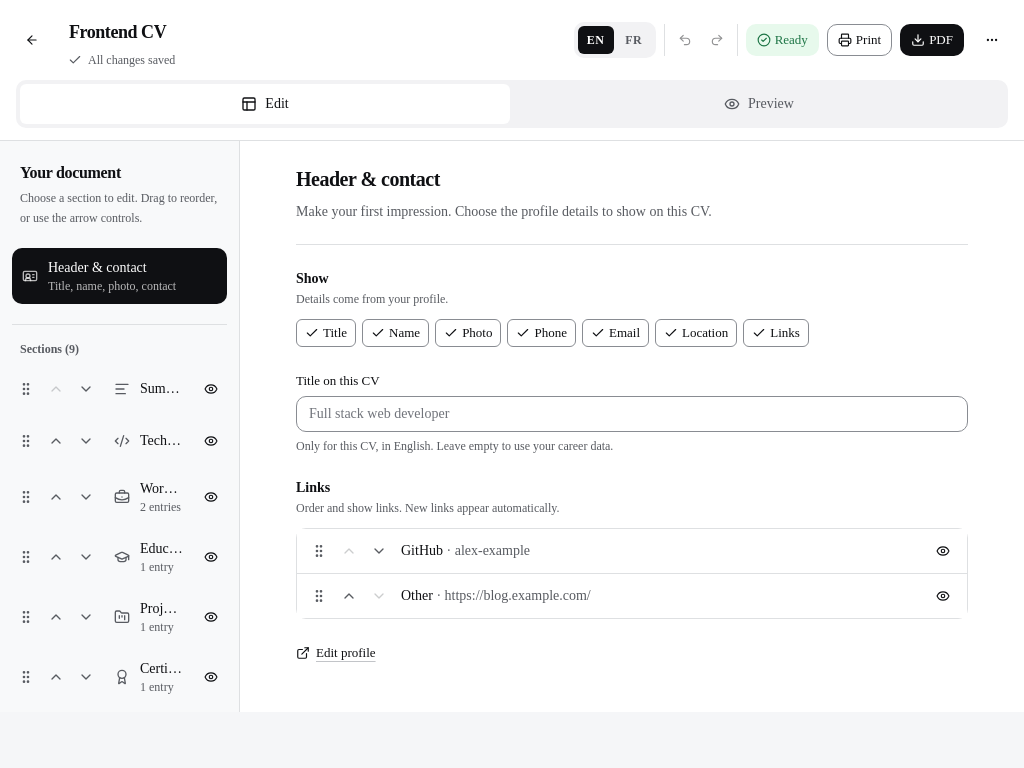
Test case: CV builder › autosaves a rename with the revision it started from
Replace the text in the field named "CV name" with "Backend CV" at (311, 32), box [60,12,562,52]
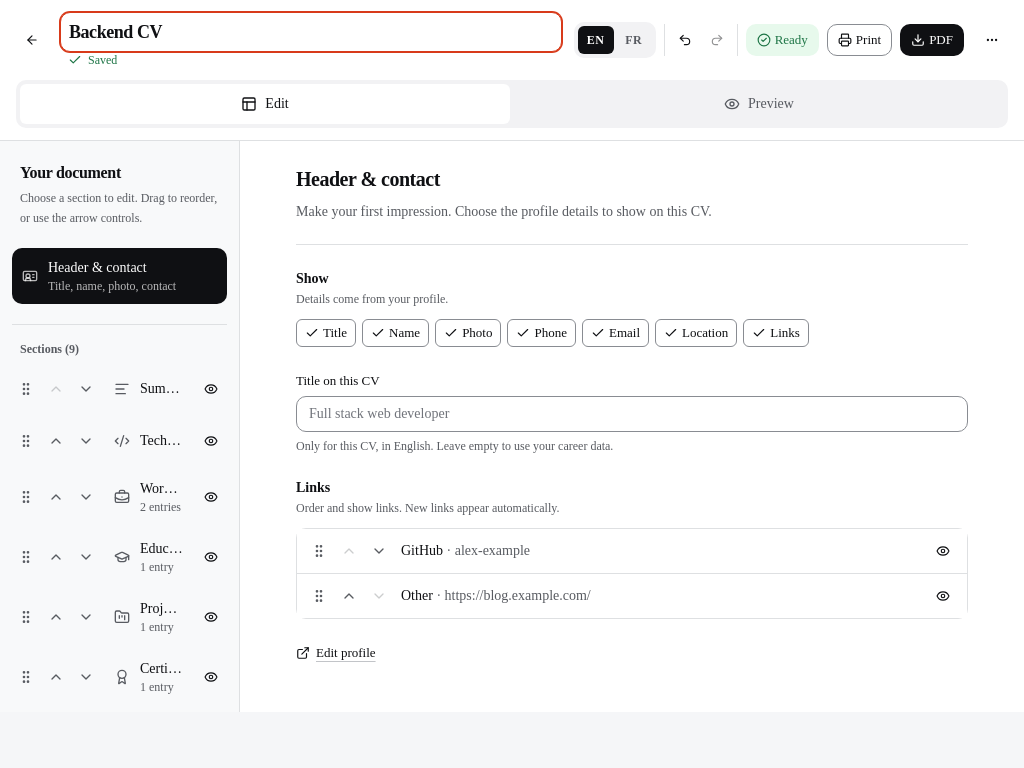
expect the message reads "Saved": met, box [88,53,117,67]
